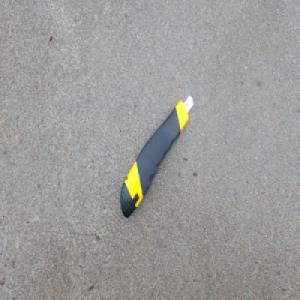Cutter: (117, 94, 191, 220)
